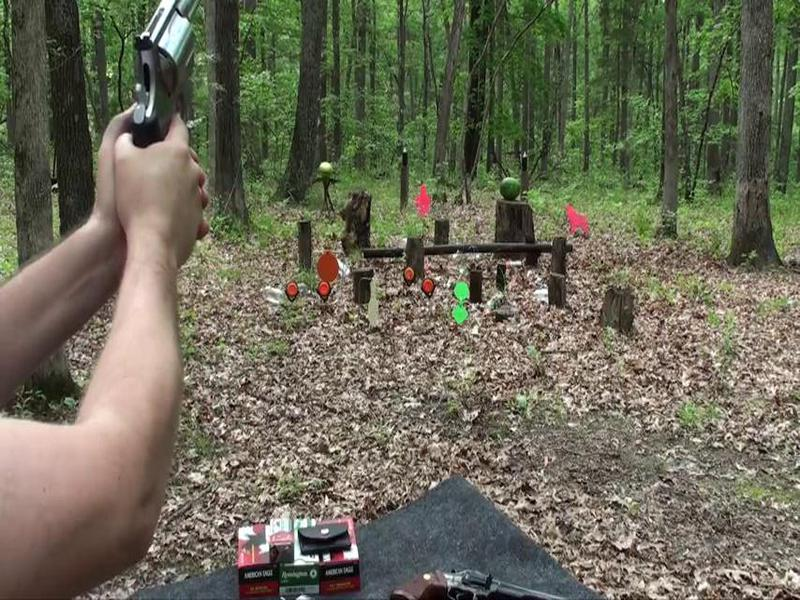Revolver: (94, 1, 225, 182)
